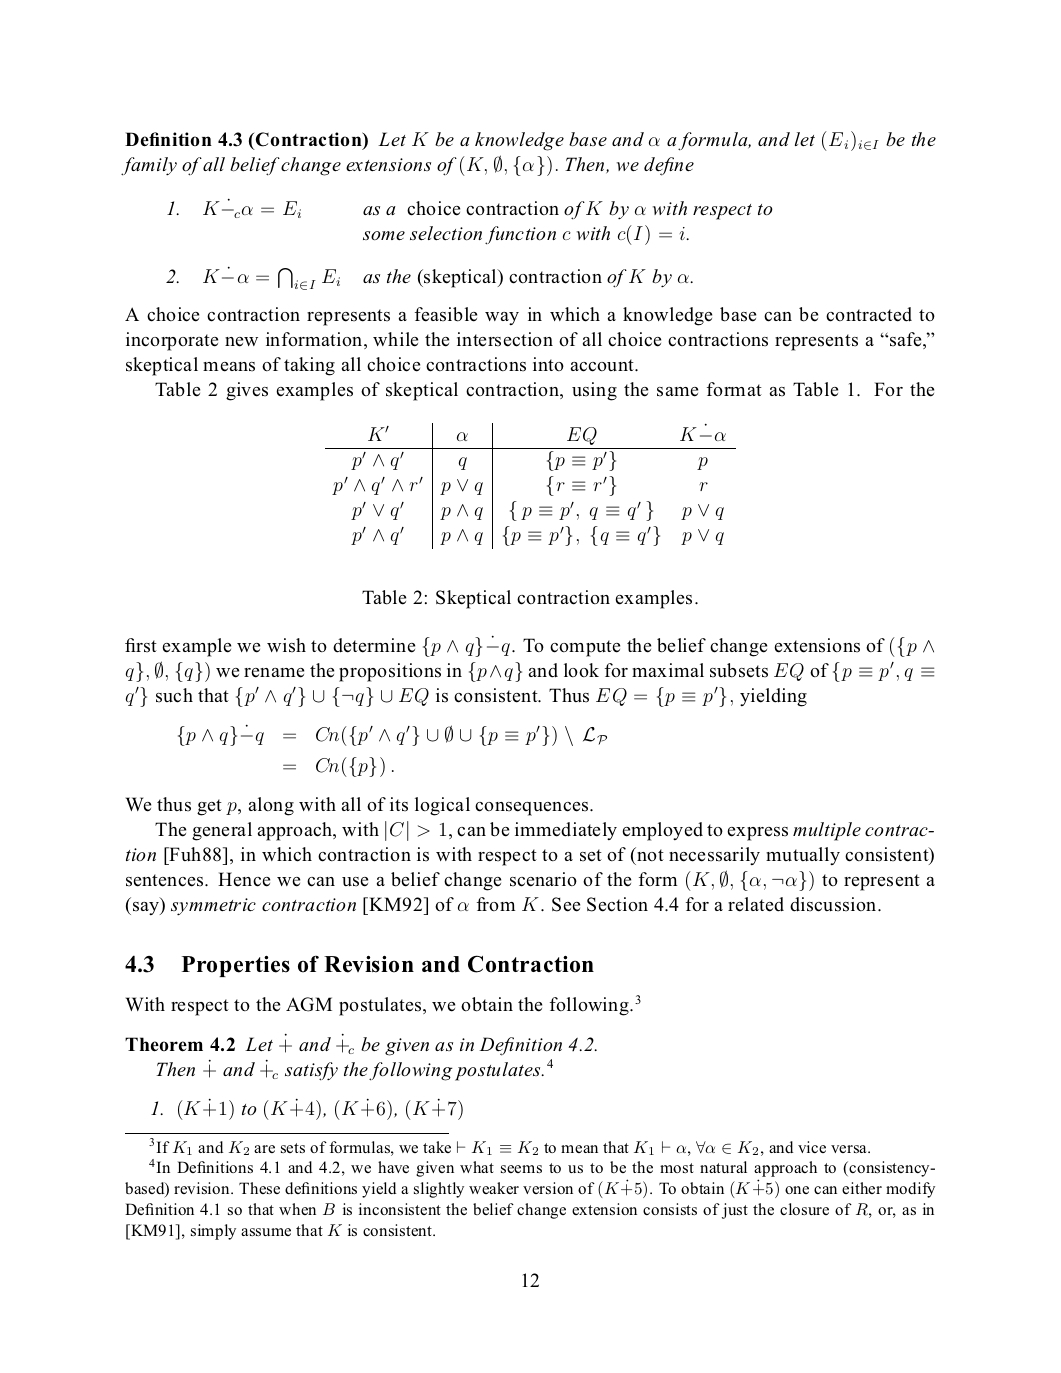Table: (325, 422, 734, 549)
formula: (177, 723, 607, 746), (150, 1097, 463, 1120), (283, 754, 393, 777)
